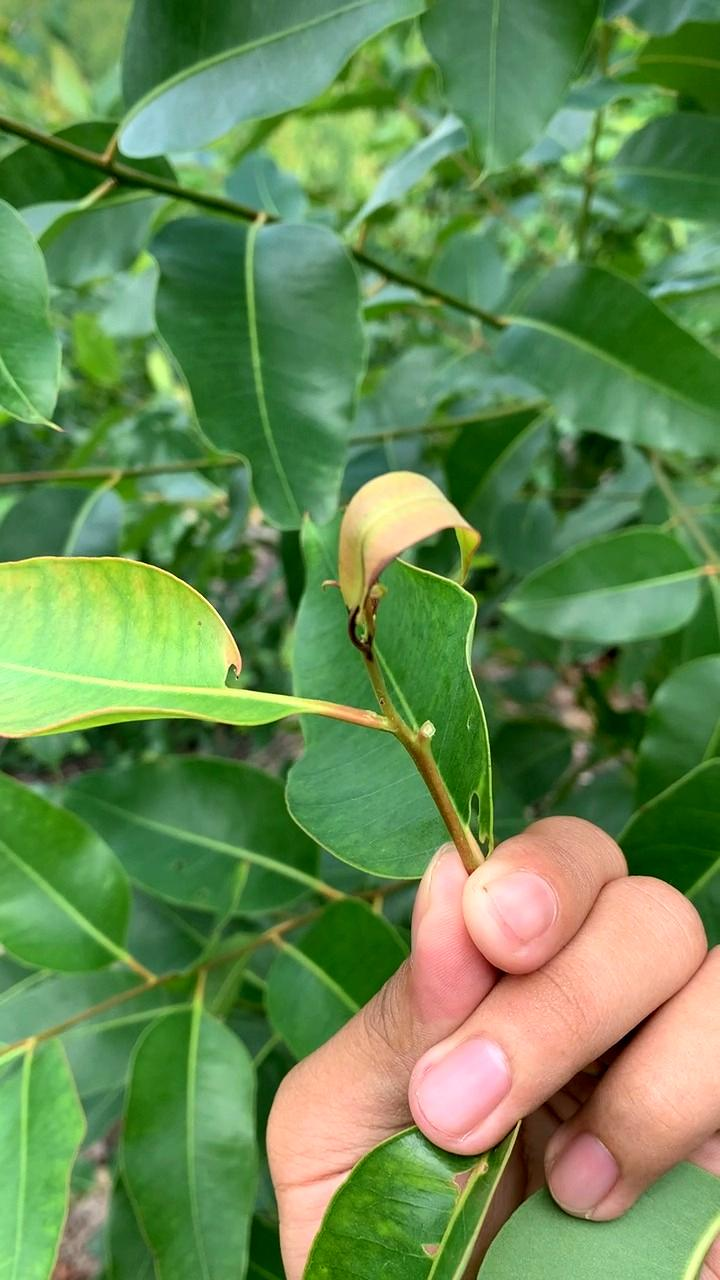Helopeltis-Withered Sprout: (325, 466, 481, 636)
